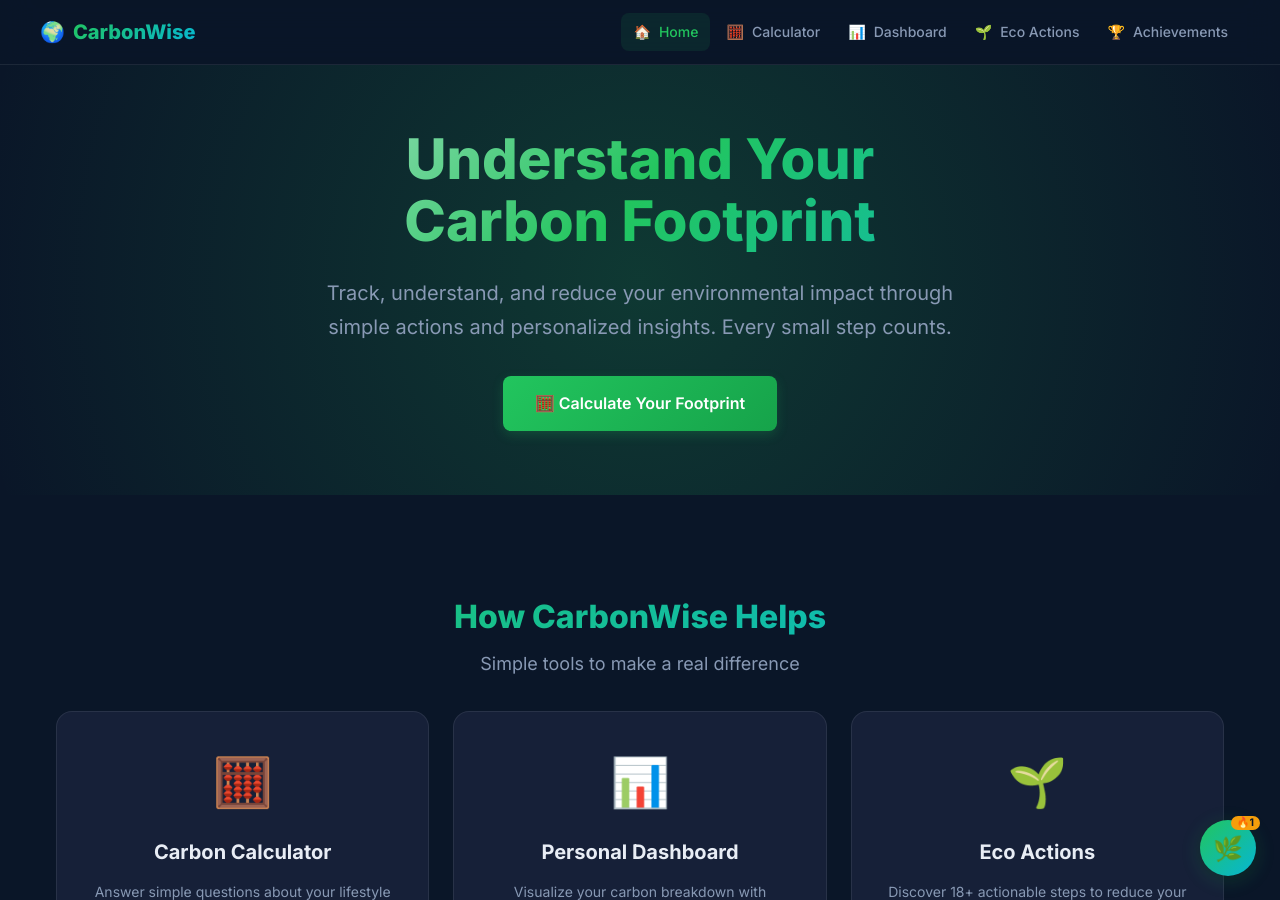
Test: EcoAssistant Widget › opens assistant panel on click
Click the button named "open eco assistant": (1228, 848) [1200,820,1256,876]
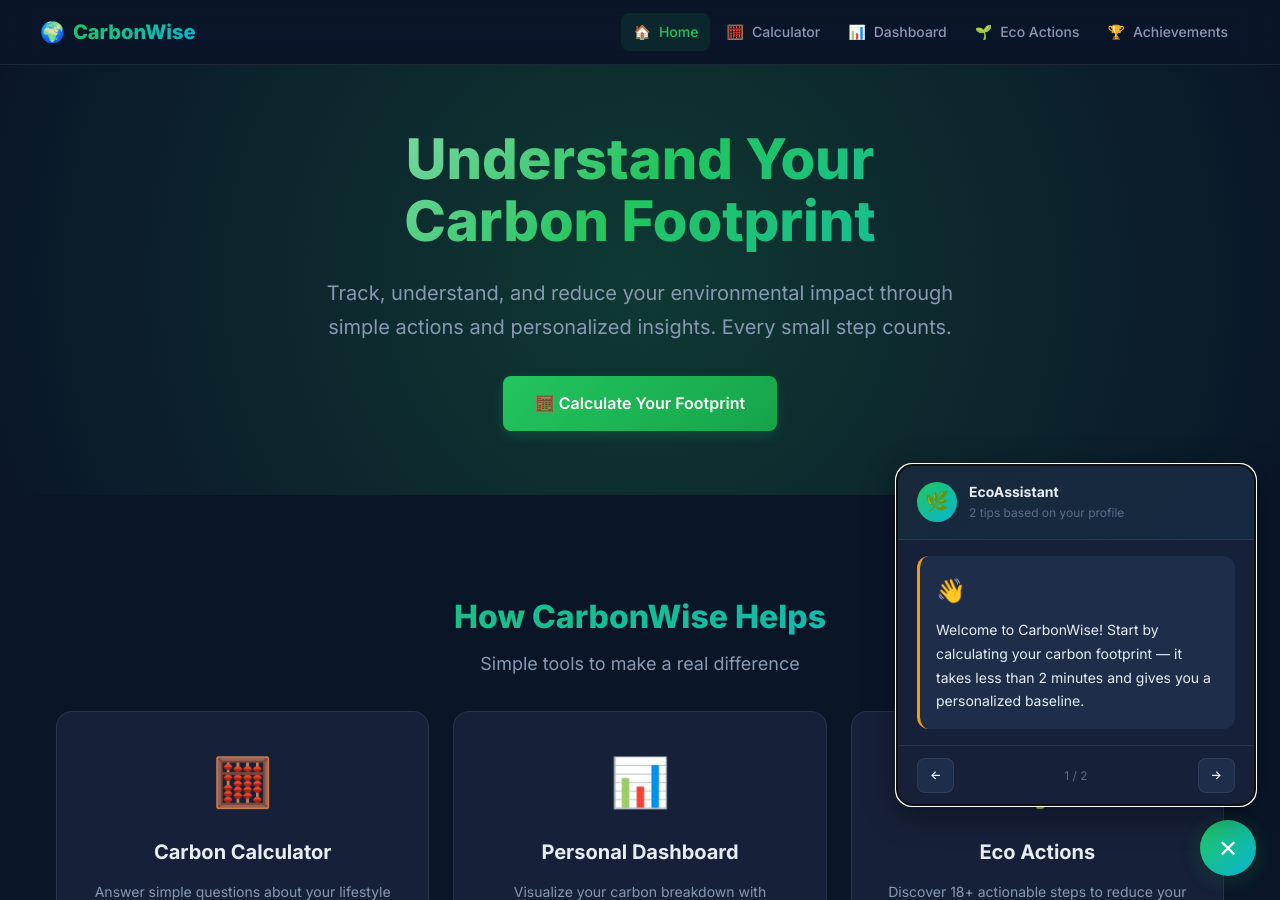
Check: the text "EcoAssistant" is shown, box [969,483,1059,500]
